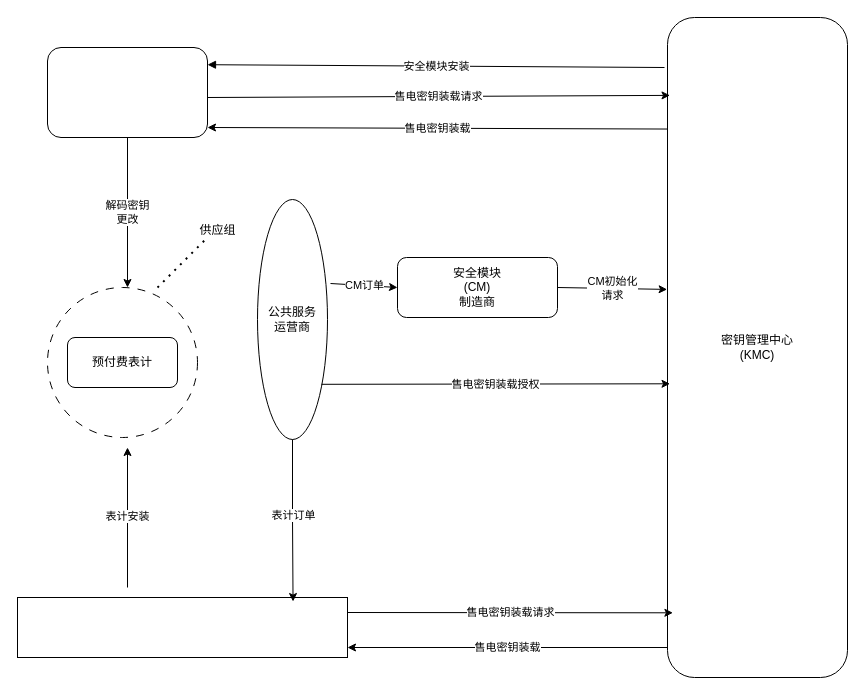
This 865x695 diagram has some shape labels left out. The box of each missing label's shape, as (x1, y1, x2, y2) in pixels:
售电终端 (POS)+安全模块(CM): (46, 46, 208, 138)
表计制造商: (16, 596, 348, 658)
